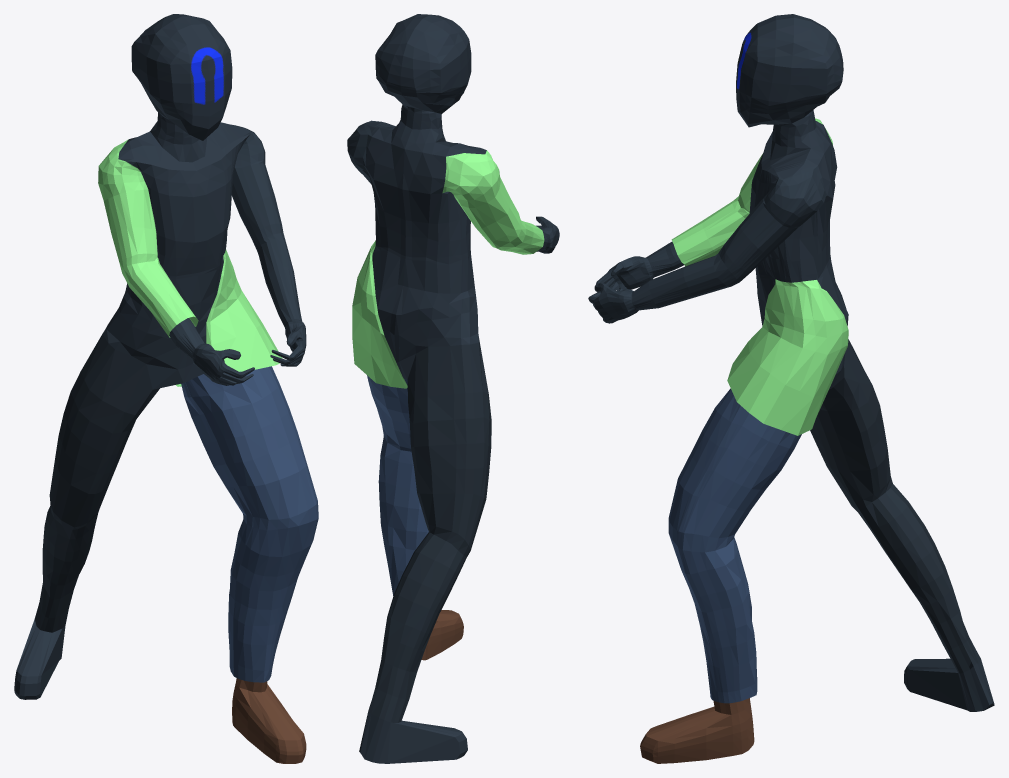
Rendered from Mar_Stun_000003.obj.
The picture shows the model from 3 angles, left to right: view 1: azimuth 30°, elevation 25°; view 2: azimuth 150°, elevation 25°; view 3: azimuth 270°, elevation 25°; orthographic projection. The views are drawn at different scales.
Parts seen in each view (by area): view 1: Cube.000_Cube.001; view 2: Cube.000_Cube.001; view 3: Cube.000_Cube.001.
Boxes of the visible parts, x1=… form: Cube.000_Cube.001: x1=14, y1=14, x2=318, y2=763; Cube.000_Cube.001: x1=347, y1=14, x2=559, y2=763; Cube.000_Cube.001: x1=588, y1=14, x2=994, y2=763.
Size of the model in its own units: 1.08 by 3.79 by 1.94.
